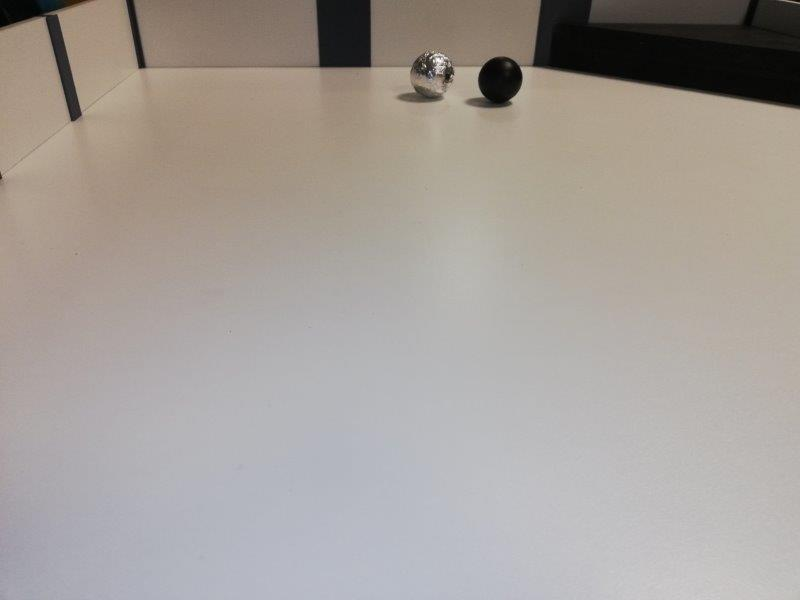bianca: (409, 48, 456, 98)
nera: (478, 56, 522, 105)
